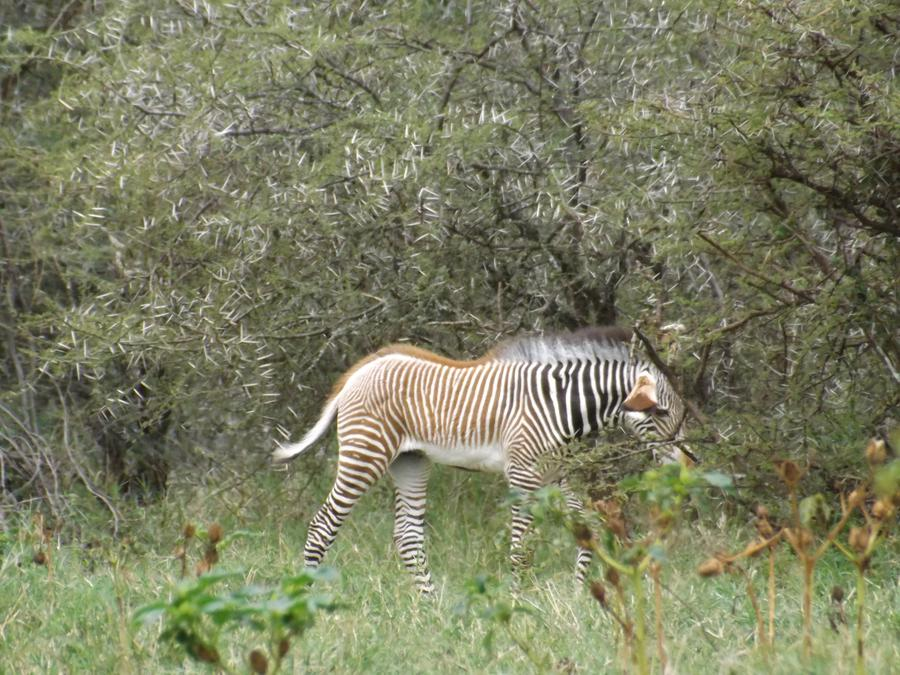zebra_grevys: (329, 327, 547, 472)
